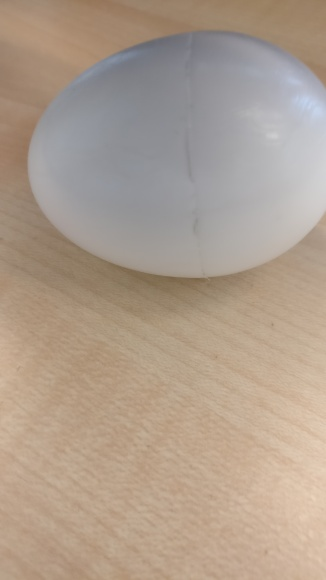egg: (25, 30, 326, 281)
